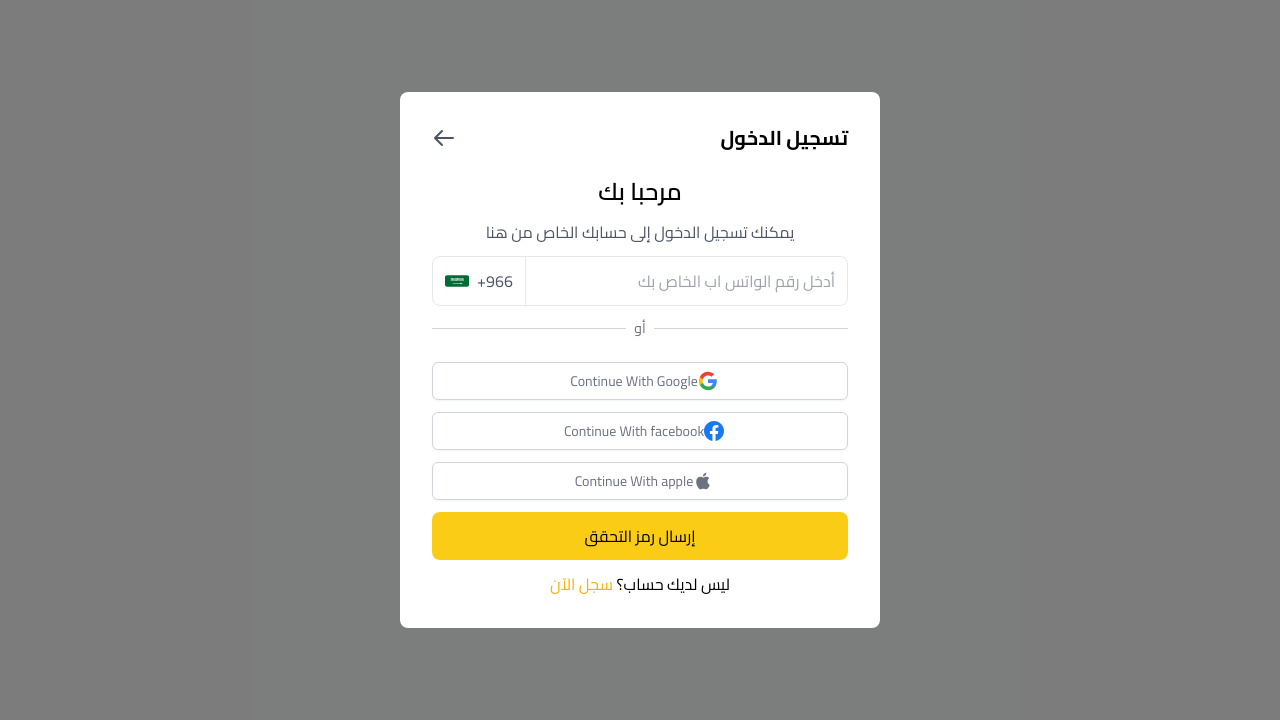
Test case: LoginModal › shows verification screen when submit button is clicked
What coordinates should you click on to do the following:
click the button "إرسال رمز التحقق"
I would click on:
 (640, 536)
Its box is [432,512,848,560].
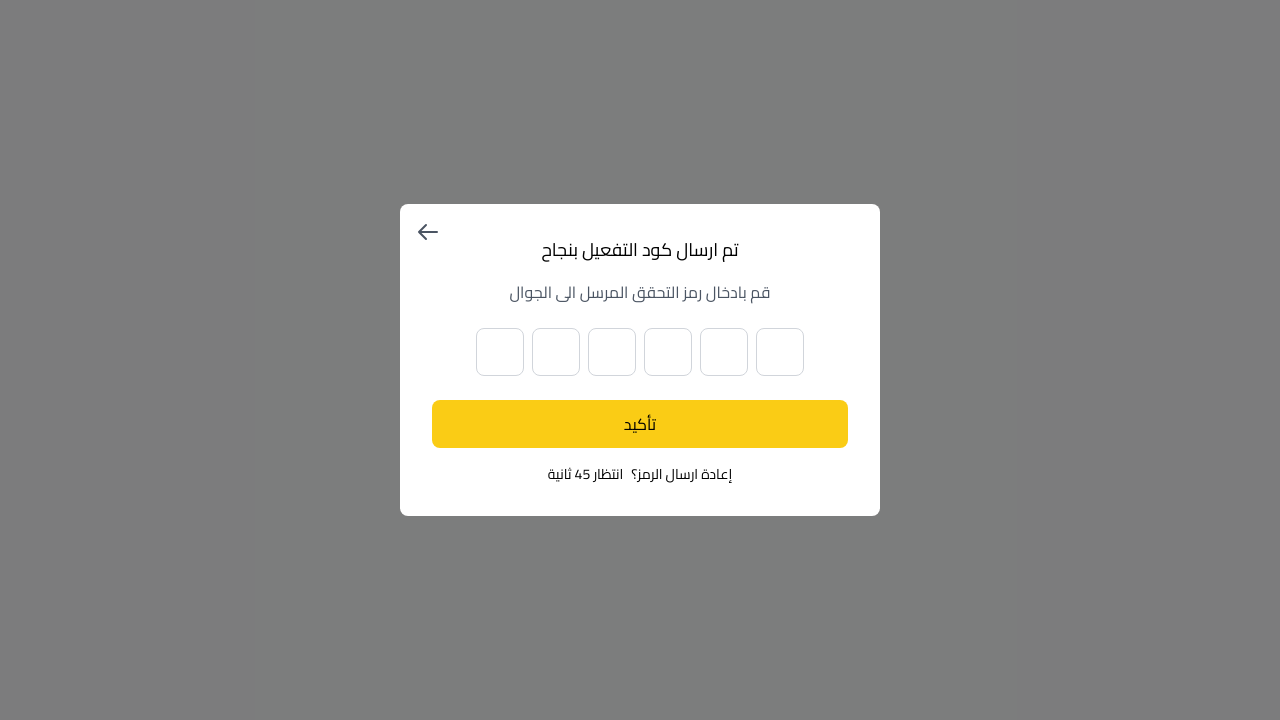
Check: the text "تم ارسال كود التفعيل بنجاح" is shown, box [541,233,739,266]
Check: the text "قم بادخال رمز التحقق المرسل الى الجوال" is shown, box [509,277,770,307]
